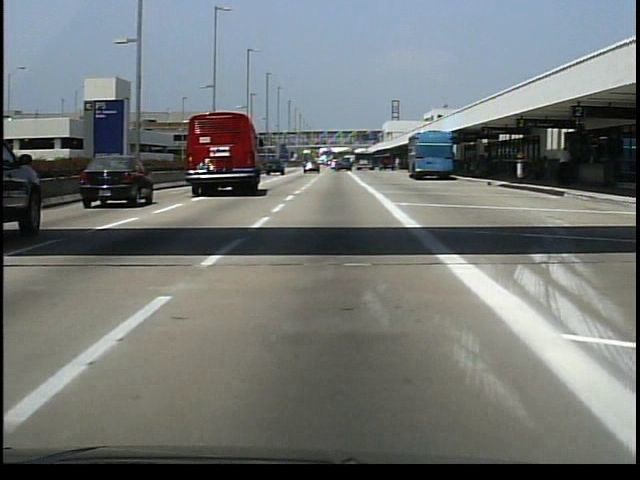person: (556, 144, 574, 186)
